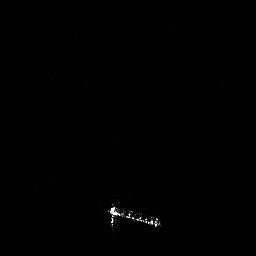ship: (104, 199, 164, 235)
